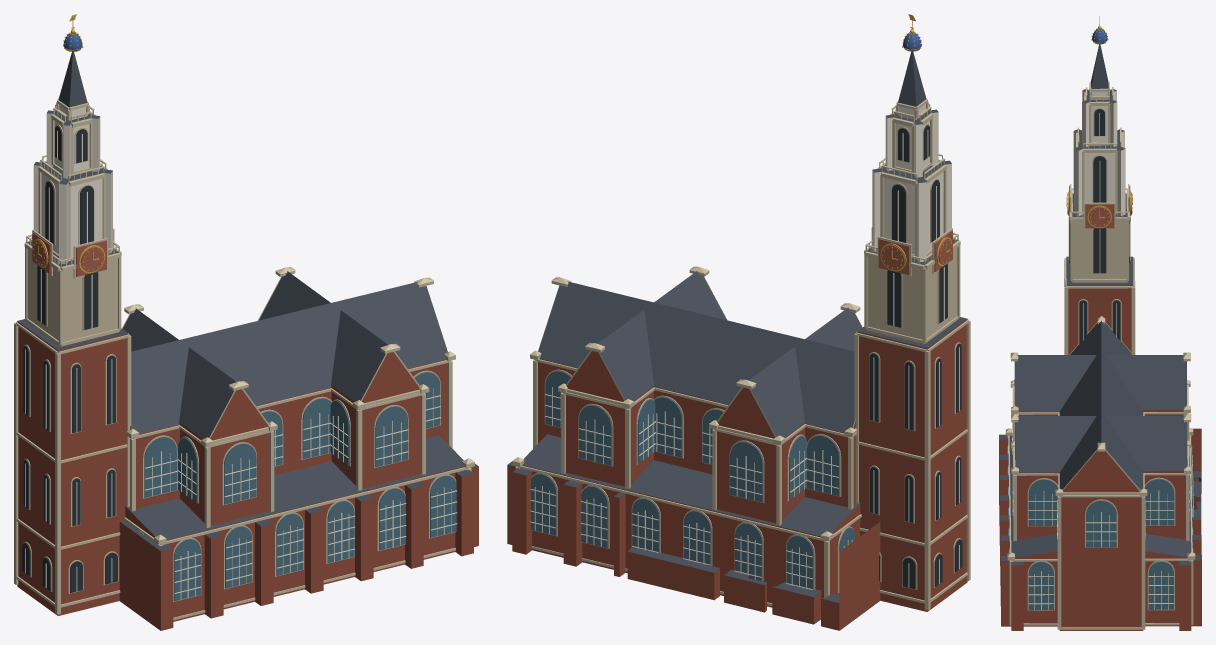
The model's file is westerkerk.glb.
3 views of the same model, side by side, from view 1: azimuth 30°, elevation 25°; view 2: azimuth 150°, elevation 25°; view 3: azimuth 270°, elevation 25° (orthographic). The views are drawn at different scales.
Visible parts, largest first — view 1: westerkerk; view 2: westerkerk; view 3: westerkerk.
Boxes of the visible parts, <box> form: westerkerk: <box>14,14,478,630</box>; westerkerk: <box>507,14,970,630</box>; westerkerk: <box>999,16,1201,630</box>.
Bounding box in the file's own units: 62.7 × 87 × 33.65.
